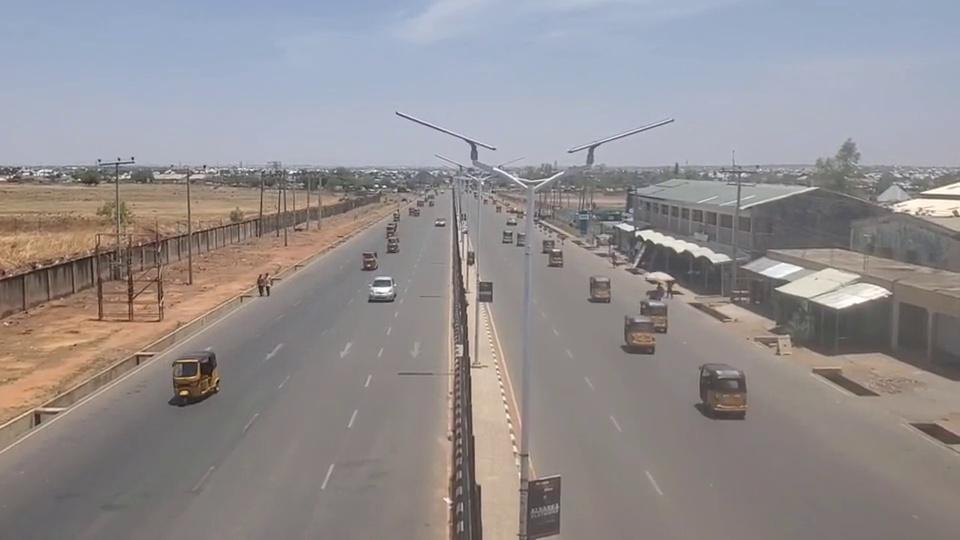keke: (698, 362, 747, 418), (171, 348, 220, 402)
